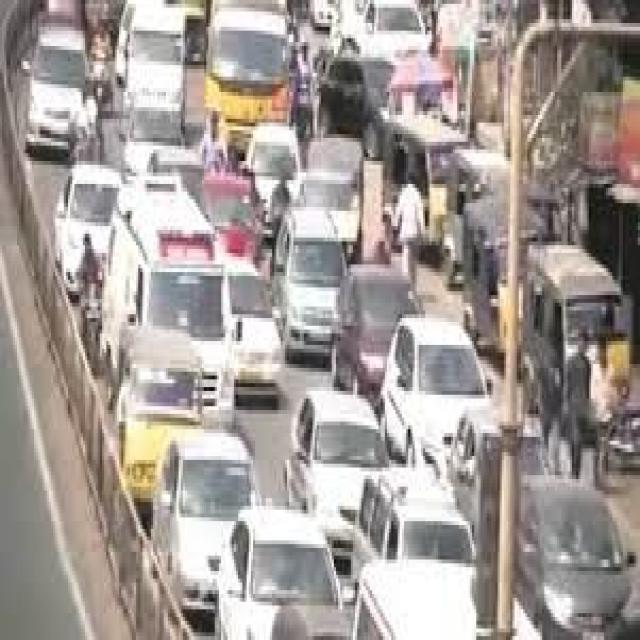ambulance: (110, 159, 226, 354)
